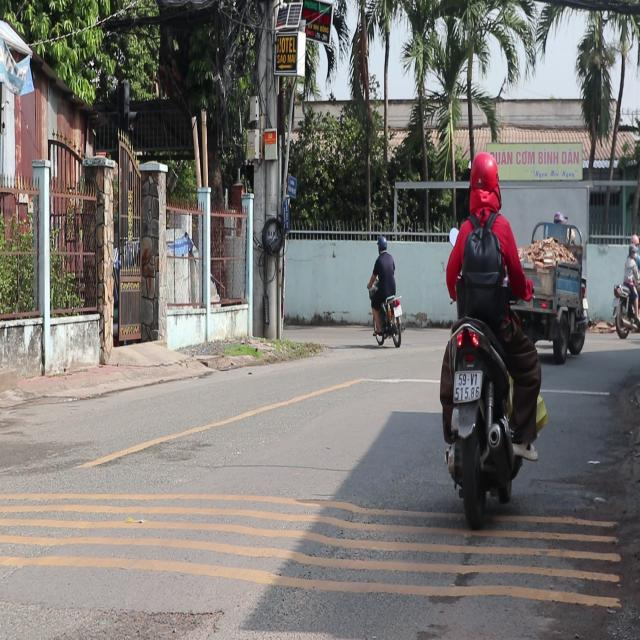helmet: (466, 150, 501, 217)
licenseplate: (433, 147, 545, 515)
nohelmet: (453, 370, 482, 402)
